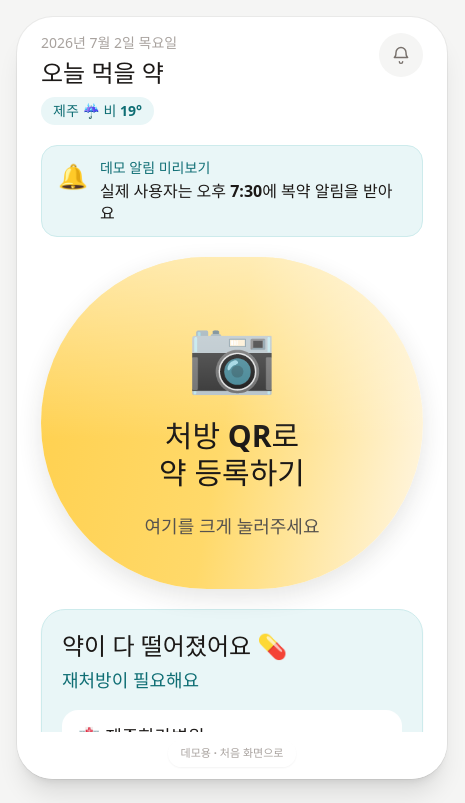
Test: senior lock-screen notification › opens the demo notification preview from the senior home CTA
Expected: the text "실제 사용자는 오후 7:30에 복약 알림을 받아요" is shown, [100,180,406,224]
Click the button "🔔 데모 알림 미리보기 실제 사용자는 오후 7:30에 복약 알림을 받아요".
click(232, 191)  # box [41,145,423,237]
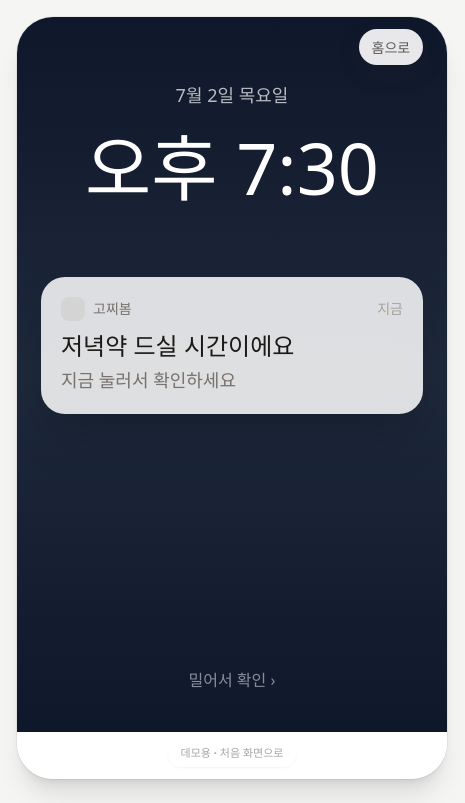
Result: the text "저녁약 드실 시간이에요" is shown at [61,329,294,362]
